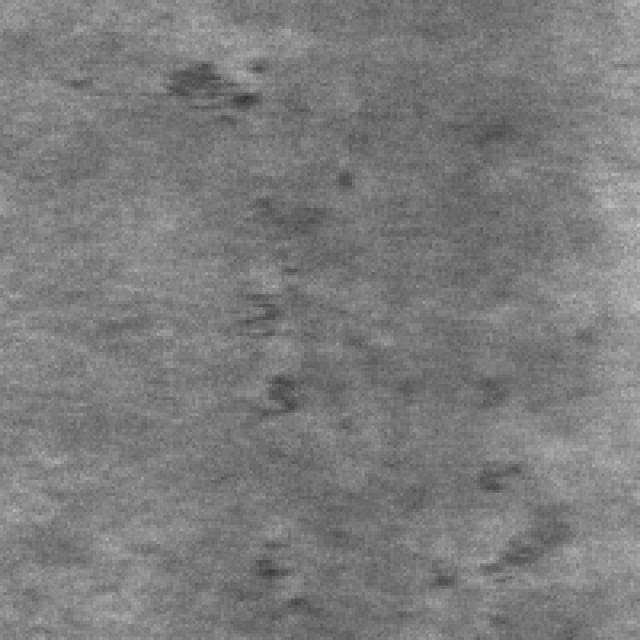rolled-in_scale: (234, 173, 362, 429), (432, 444, 589, 602), (140, 45, 282, 125)
